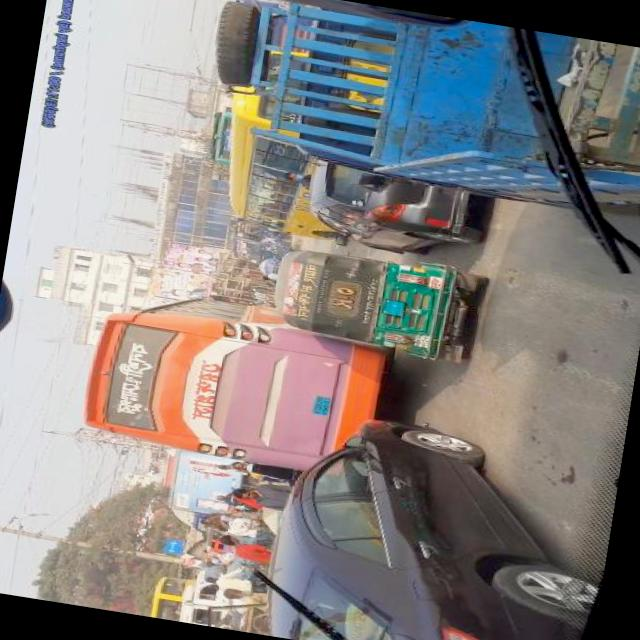bus: (74, 279, 398, 480), (212, 39, 396, 248), (178, 552, 270, 632), (228, 210, 292, 268), (146, 570, 194, 621), (201, 104, 232, 166)
motorcycle: (264, 230, 488, 366), (250, 250, 278, 282), (242, 278, 274, 303)
truck: (192, 0, 640, 226), (160, 447, 254, 542)
